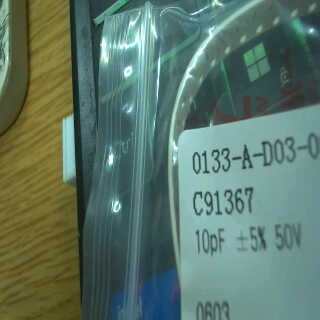10pF: (193, 221, 228, 265)
